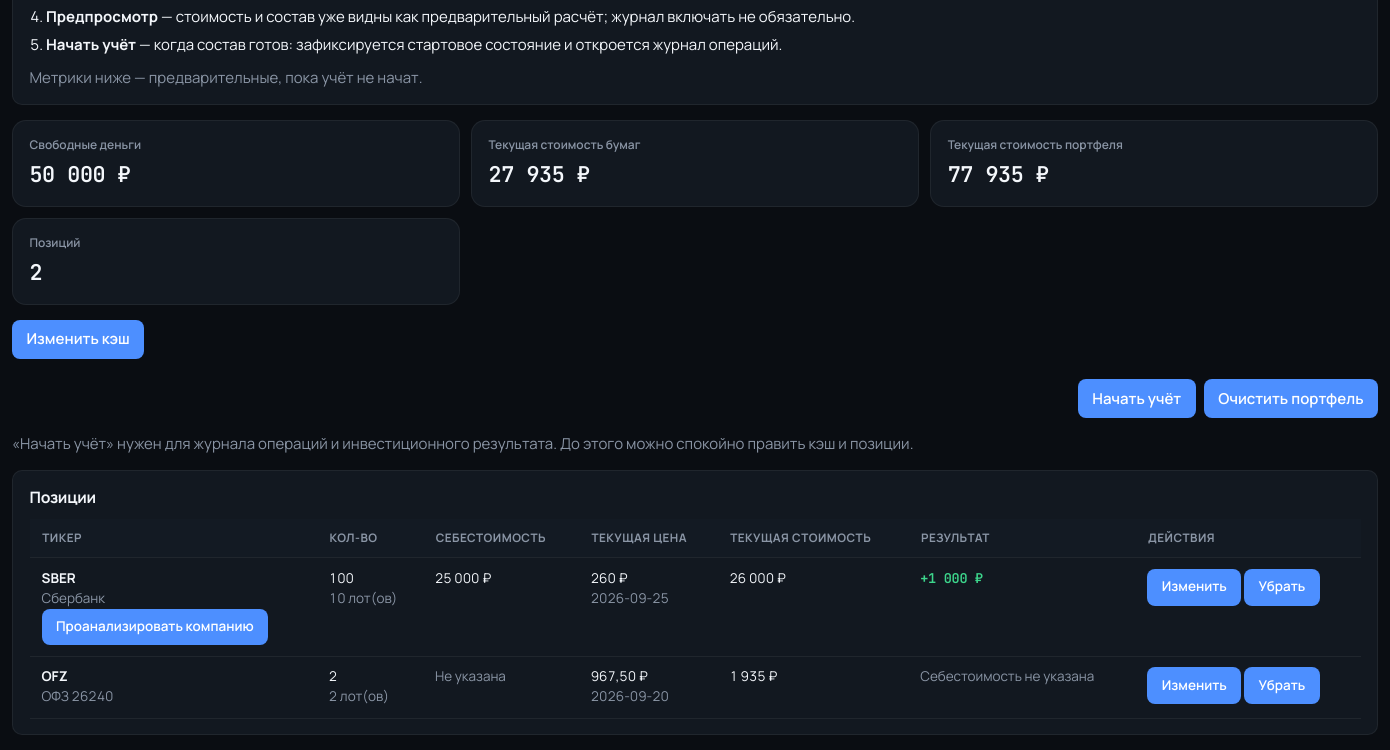
Test case: PersonalPortfolioPanel DRAFT manager › clears the whole DRAFT portfolio
(page scrolled)
Click the button with test id "clear-draft-btn": (1291, 399) [1204,379,1378,418]
(page scrolled)
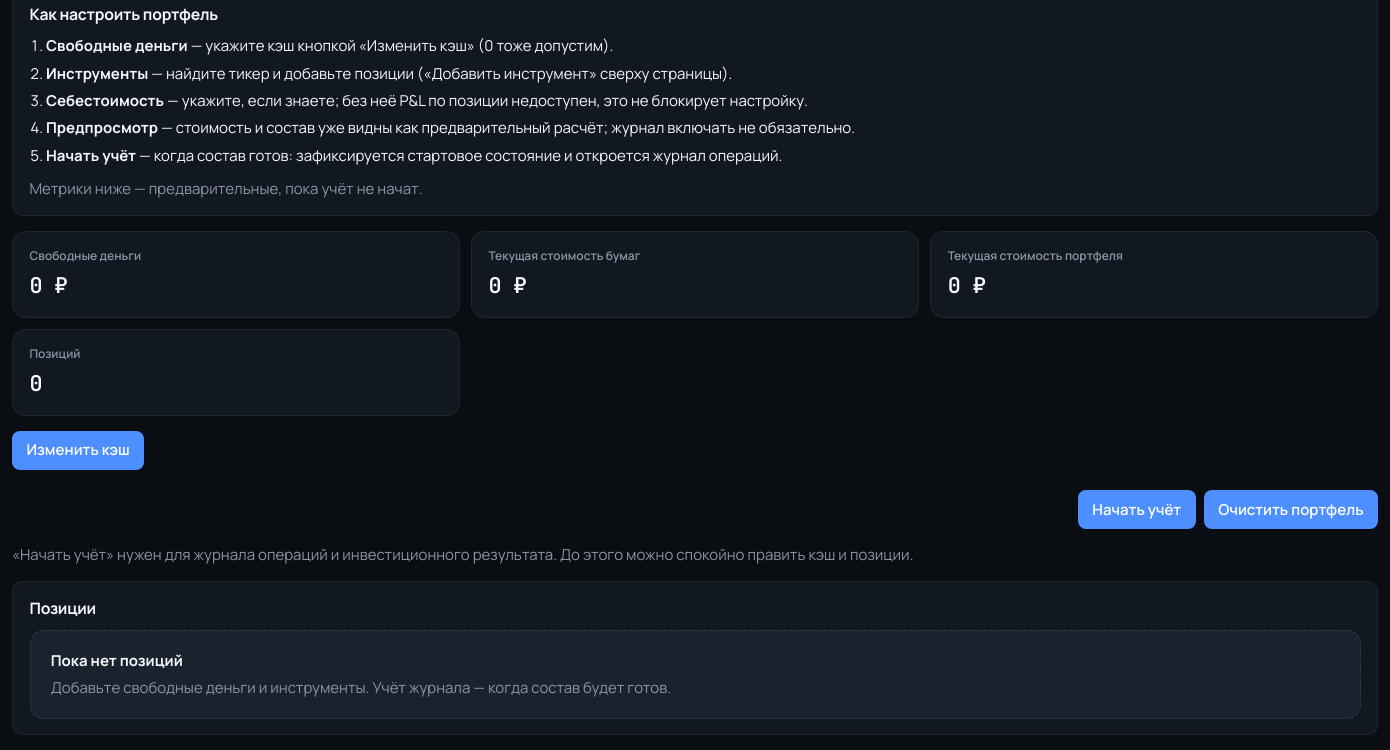
Result: the text "Пока нет позиций" is shown at [51,650,183,671]
